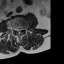CCS_normal: (18, 26, 20, 35)
LFS_stenosis: (22, 25, 24, 31)
LLS_stenosis: (20, 26, 22, 34)
RFS_normal: (14, 26, 16, 32)
RLS_normal: (16, 26, 18, 33)
